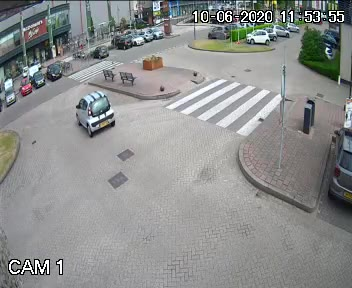car: (72, 89, 120, 141)
